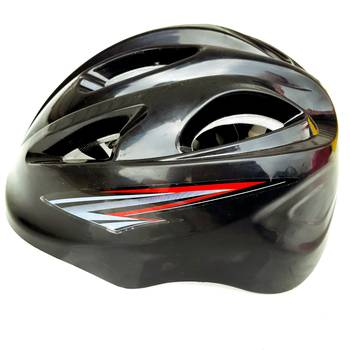with_helmet: (3, 21, 344, 300)
